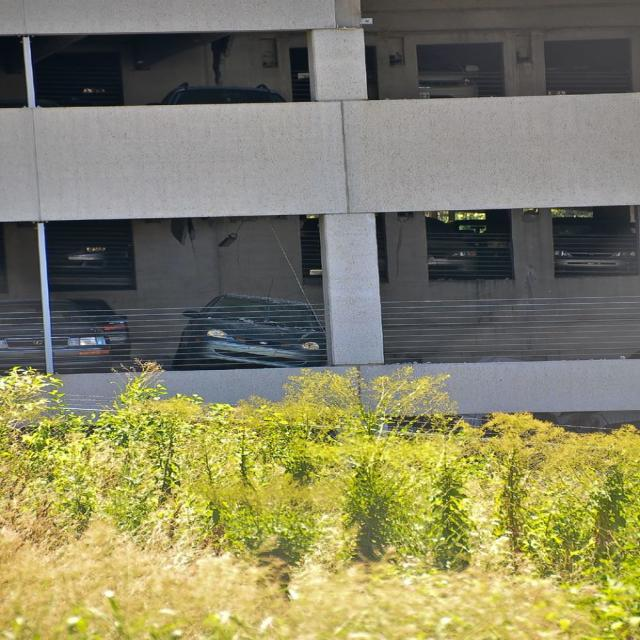car: (165, 291, 342, 370), (6, 295, 136, 372), (558, 207, 638, 284), (412, 211, 485, 278), (44, 55, 125, 104), (165, 77, 288, 107), (412, 60, 487, 96)
